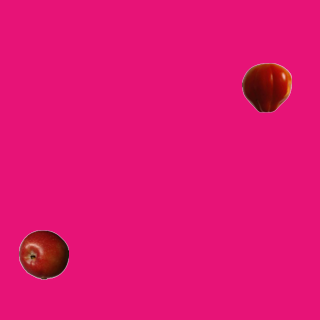Apple Braeburn: (18, 229, 68, 279)
Tomato 1: (241, 62, 291, 112)
